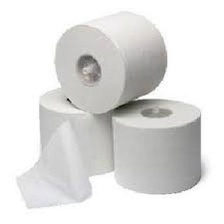tissue: (48, 5, 176, 119), (12, 82, 122, 214), (106, 92, 206, 199)
